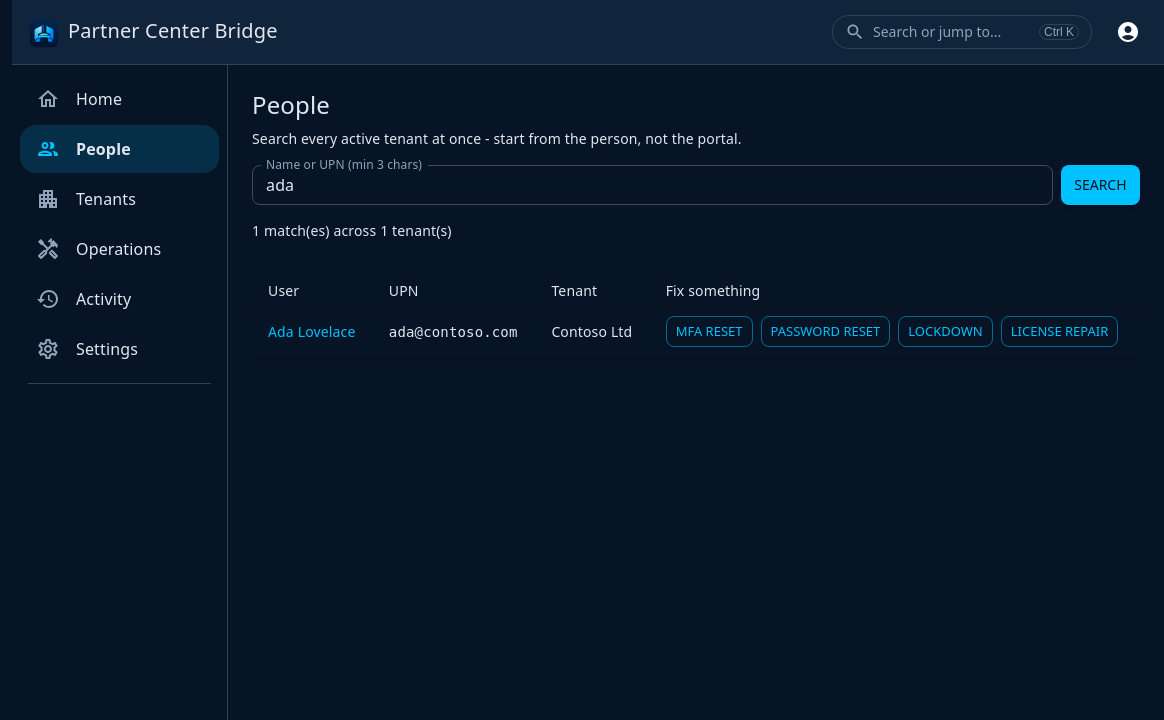
Test case: App routing › runs a ?q= people search and links each hit to its workspace
Click the link "Ada Lovelace". click: coordinates (312, 331)
box: x1=268 y1=322 x2=356 y2=341
(page scrolled)
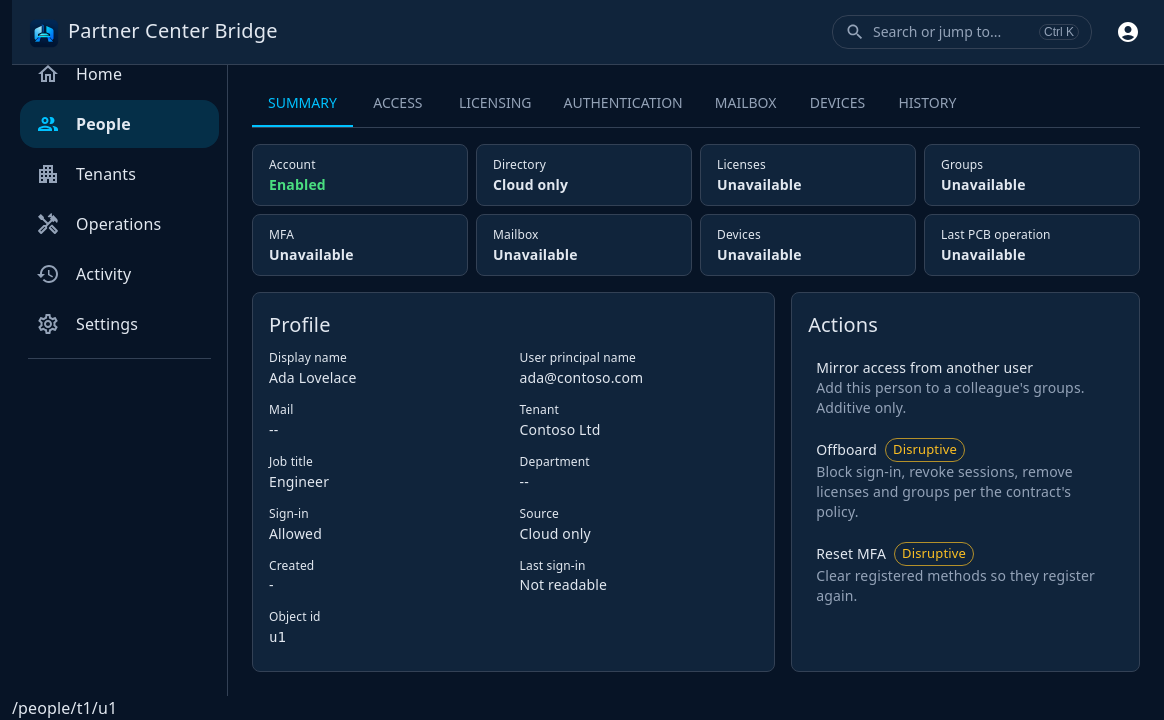
Expected: the heading "Ada Lovelace" is shown, x1=252 y1=7 x2=401 y2=39
Expected: the text with test id "location" reads "/people/t1/u1", x1=12 y1=697 x2=117 y2=719
